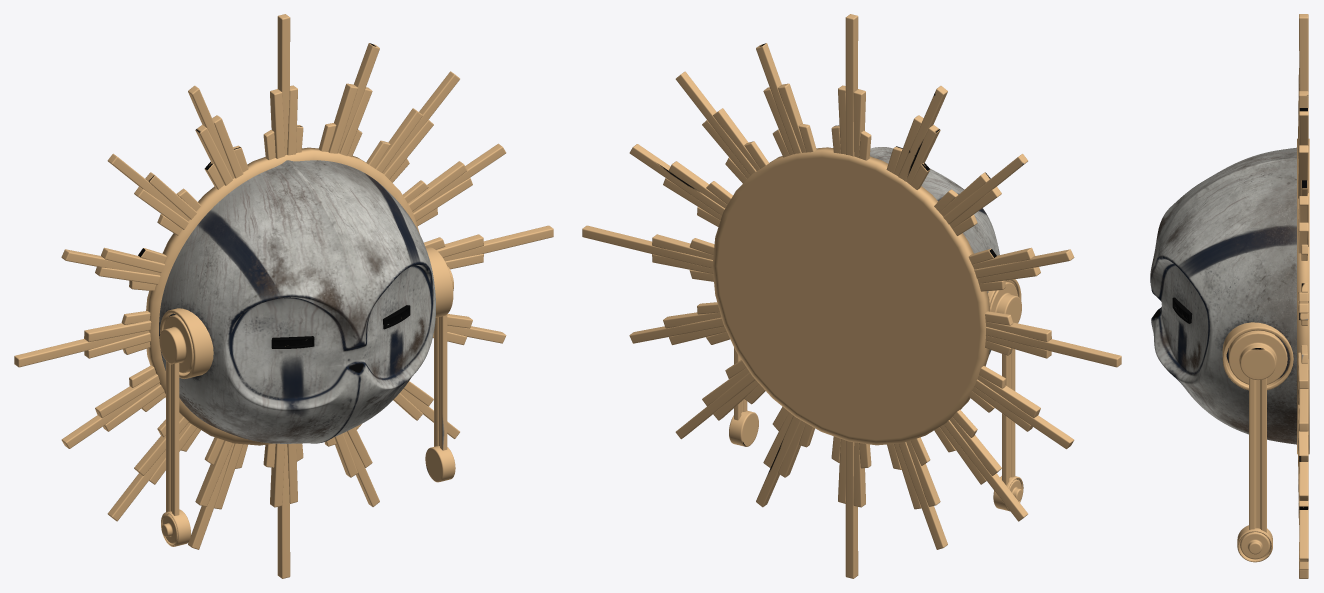
Rendered from esqi.glb.
The picture shows the model from 3 angles, left to right: view 1: azimuth 30°, elevation 25°; view 2: azimuth 150°, elevation 25°; view 3: azimuth 270°, elevation 25°; orthographic projection.
Parts seen in each view (by area): view 1: Cube.002; view 2: Cube.002; view 3: Cube.002.
Part boxes in pixels (<box>): Cube.002: <box>14,14,553,578</box>; Cube.002: <box>582,14,1121,578</box>; Cube.002: <box>1150,14,1309,578</box>.
Size of the model in its own units: 3.53 by 3.53 by 0.9085.
1 material, 1 textured.
